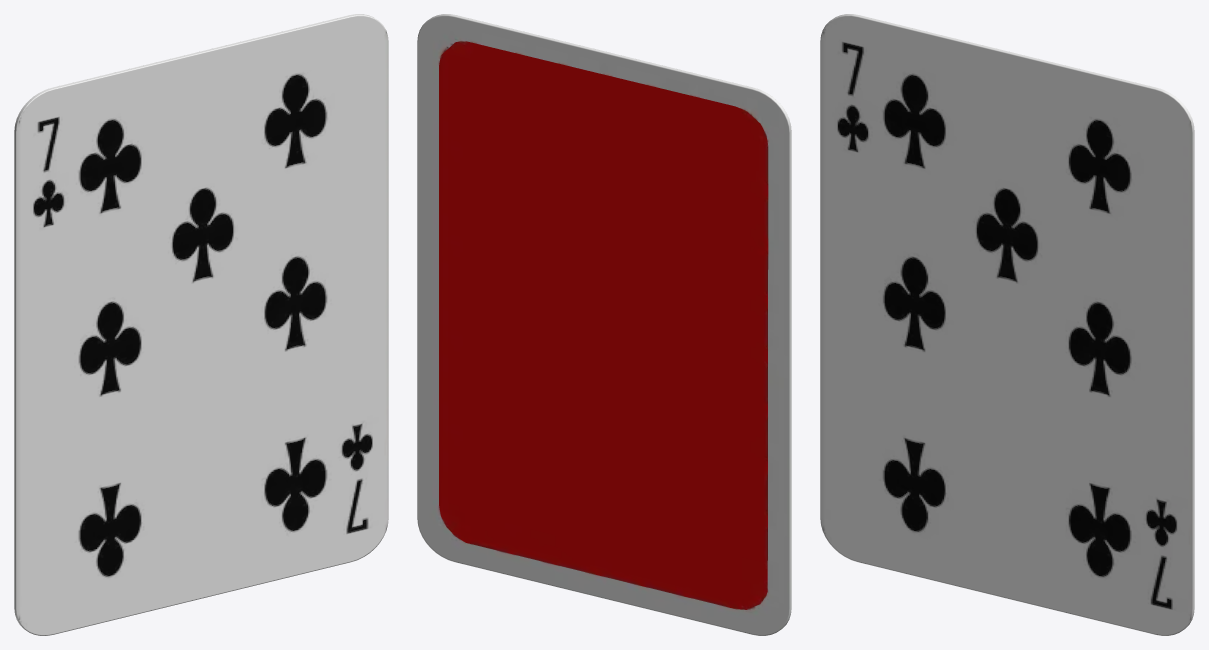
File: clubs_7.glb
3 views of the same model, side by side, from view 1: azimuth 30°, elevation 25°; view 2: azimuth 150°, elevation 25°; view 3: azimuth 330°, elevation 25° (orthographic).
Visible parts, largest first — view 1: defaultMaterial.017; view 2: defaultMaterial.017; view 3: defaultMaterial.017.
Boxes of the visible parts, x1,y1,x2,y2 form: defaultMaterial.017: (14,14,388,635); defaultMaterial.017: (417,14,791,635); defaultMaterial.017: (820,14,1194,635).
Size of the model in its own units: 0.1408 by 0.1972 by 0.00111.
Materials: 1 (1 with a texture image).
